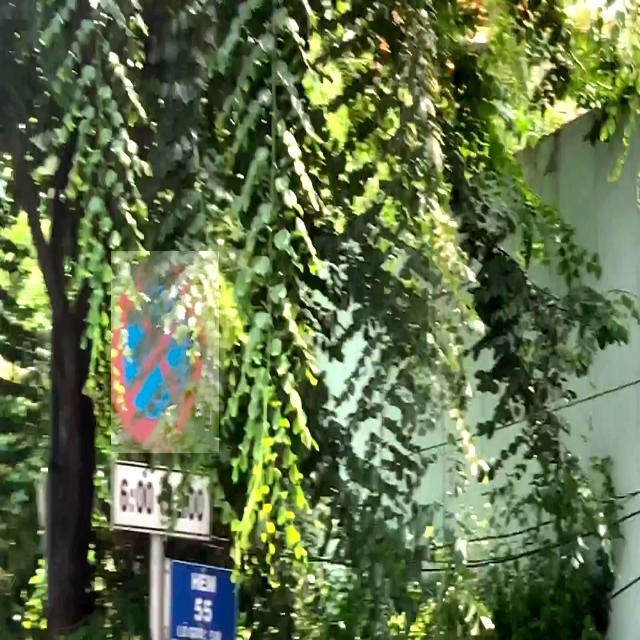bien_chi_dan: (111, 251, 219, 453)
